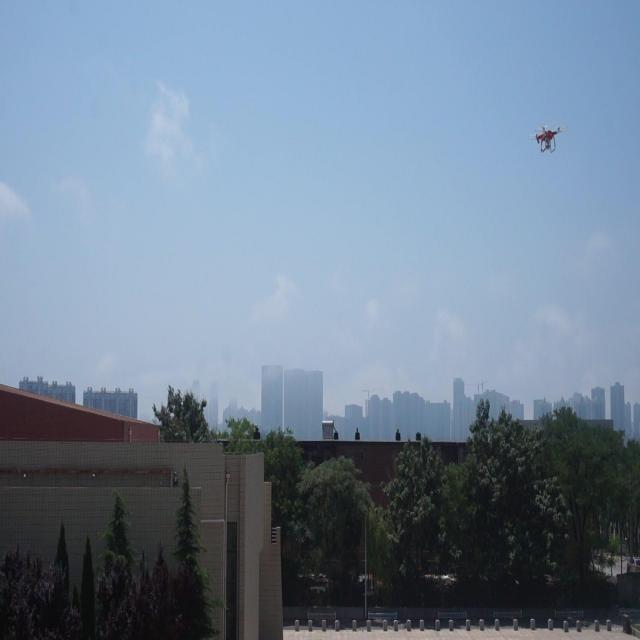UAV: (528, 124, 568, 153)
